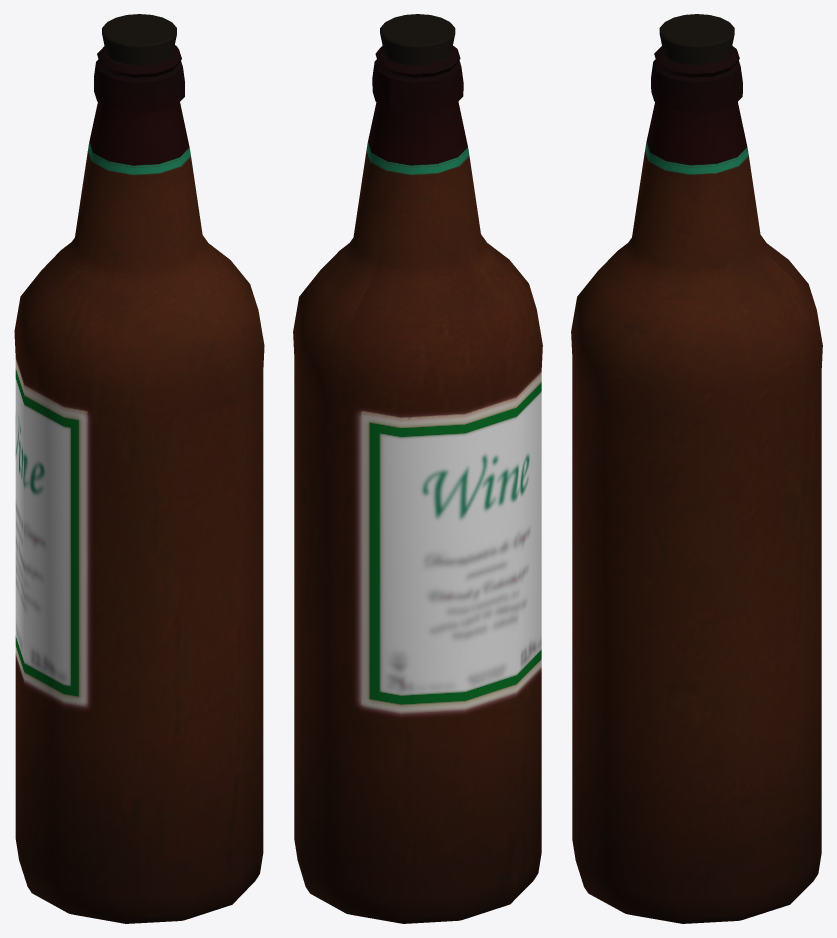
File: Bottle 5.FBX
3 views of the same model, side by side, from view 1: azimuth 30°, elevation 25°; view 2: azimuth 150°, elevation 25°; view 3: azimuth 270°, elevation 25° (orthographic).
Visible parts, largest first — view 1: Bottle 5; view 2: Bottle 5; view 3: Bottle 5.
Part boxes in pixels (x1=…): Bottle 5: x1=14, y1=14, x2=264, y2=923; Bottle 5: x1=293, y1=14, x2=542, y2=923; Bottle 5: x1=571, y1=14, x2=822, y2=923.
Size of the model in its own units: 8.15 by 30.64 by 8.23.
1 material, 1 textured.
